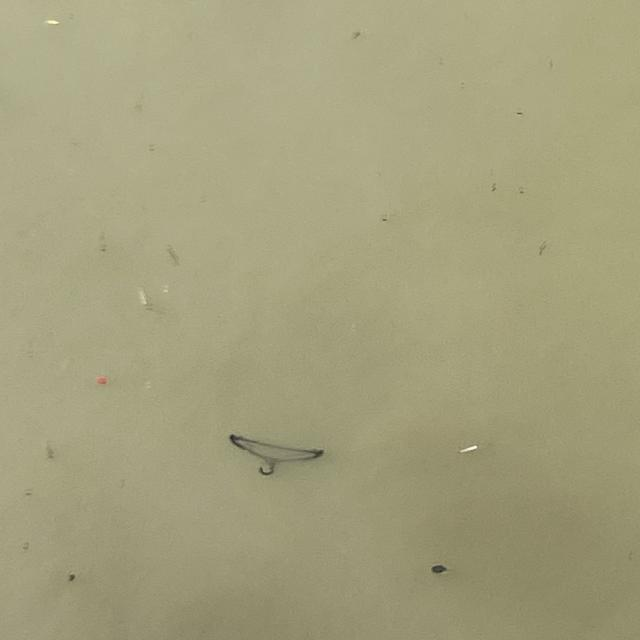Plastic: (221, 419, 342, 491), (452, 443, 505, 466), (92, 376, 111, 390)
